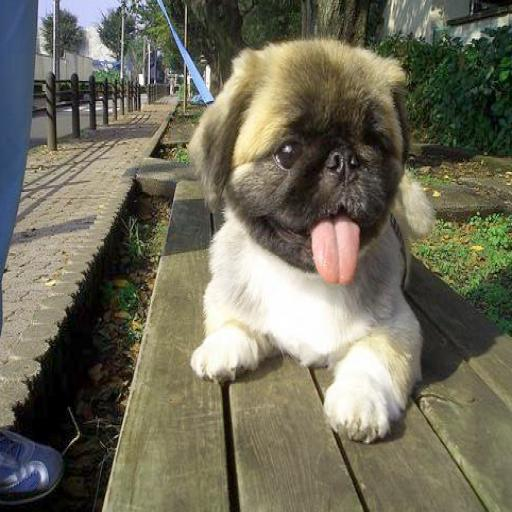dog_face: (201, 40, 416, 262)
